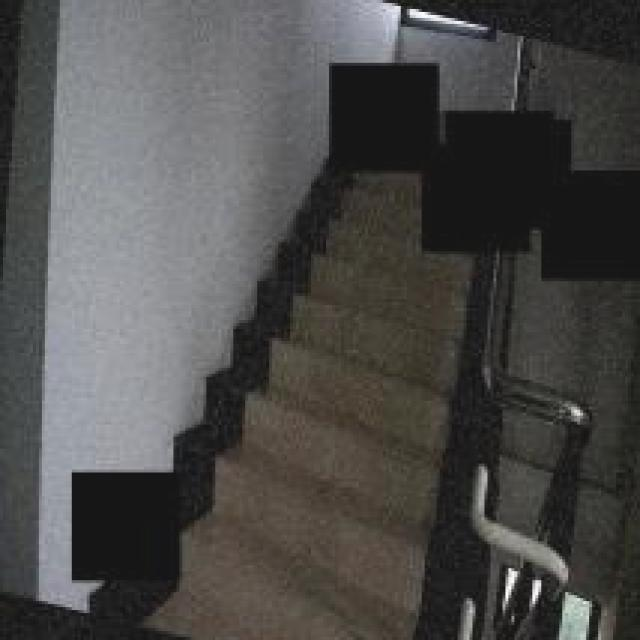upstair: (255, 288, 450, 640)
